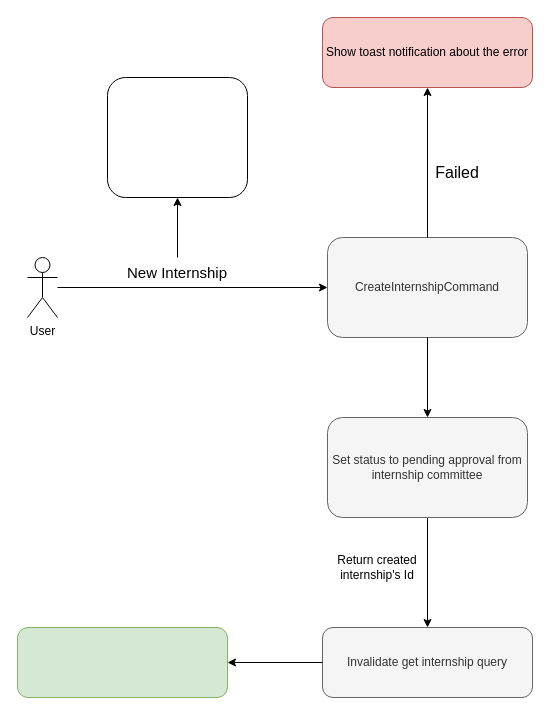
Some shapes in this 550 by 715 pixel diagram are drawn without their labels. Here are the shapes that lost their labels. From the top down, the centre of each, then its label:
At [177,137]: "CompanyId EmployeeId StartDate EndDate TotalDays InsuranceType".
At [122,662]: "Show success message with toast notification".
